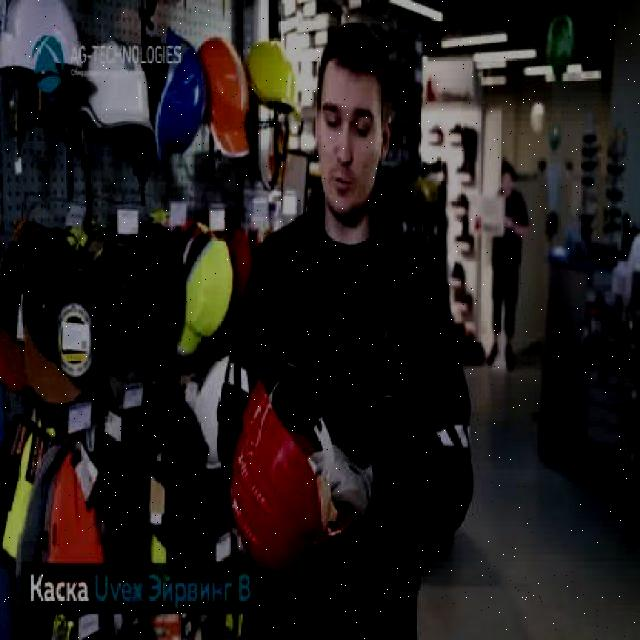Gloves: (306, 439, 379, 528)
Helmet: (229, 358, 357, 582), (73, 36, 156, 139), (151, 23, 207, 174), (0, 0, 92, 86), (198, 34, 252, 160), (243, 37, 303, 125)
